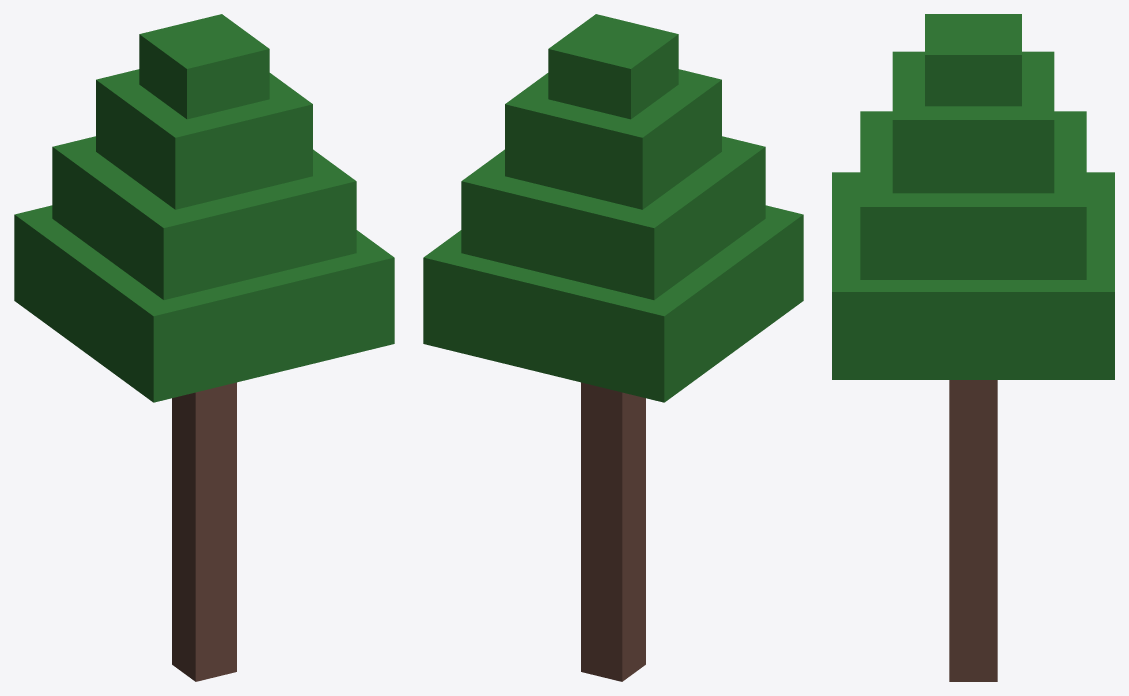
The model's file is tree_tall.obj.
3 renders of one model, left to right at view 1: azimuth 30°, elevation 25°; view 2: azimuth 150°, elevation 25°; view 3: azimuth 270°, elevation 25°, orthographic.
Size of the model in its own units: 3.5 by 8.7 by 3.5.
